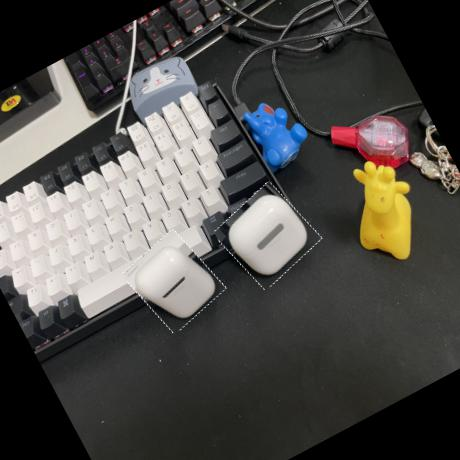airpod2: (120, 225, 228, 338)
airpod3: (210, 178, 326, 294)
